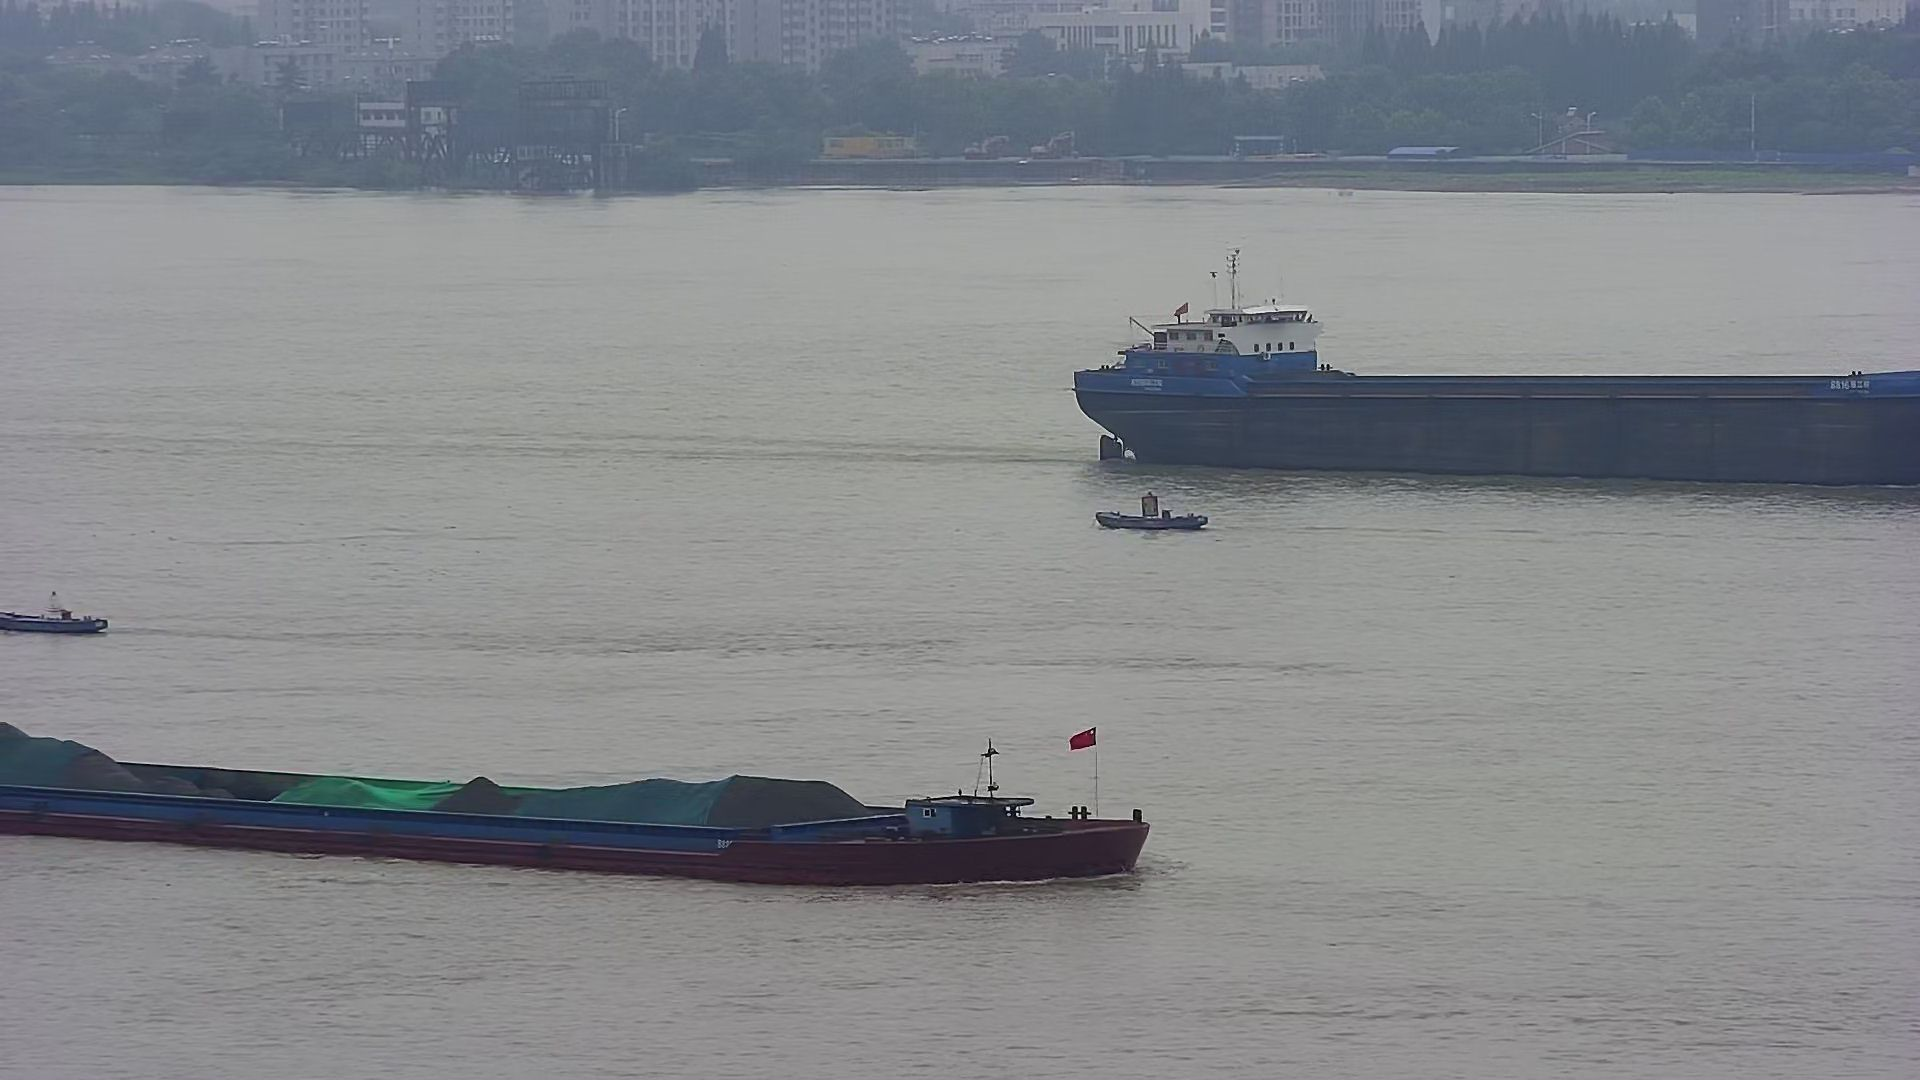boat: (1, 579, 113, 637), (1092, 495, 1215, 533)
ship: (1, 708, 1159, 885), (1071, 255, 1920, 487)
